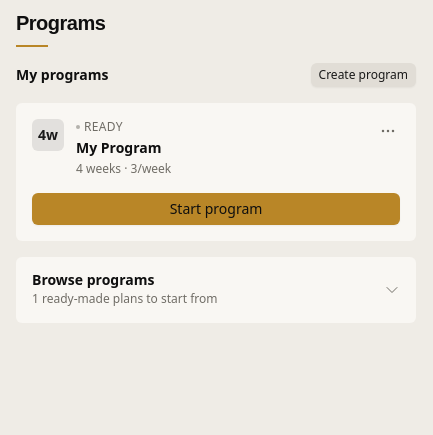
Test: ProgramsPage › chips a shared program’s focus tags in taxonomy order, and none for an untagged one
Click the button "Browse programs 1 ready-made plans to start from" at [216, 290], box [16,256,416,322]
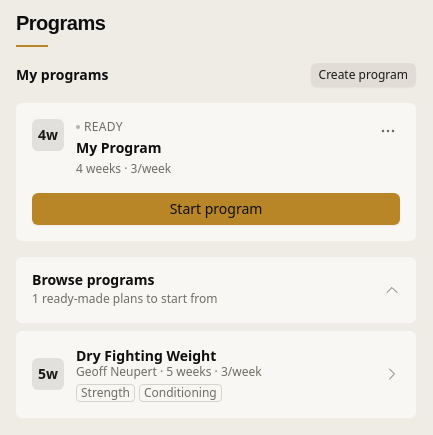
Expected: the link "My Program" is shown, [76,138,162,157]
Expected: the list items read "Strength", "Conditioning", in this order, [76,384,135,402]; [139,384,222,402]
